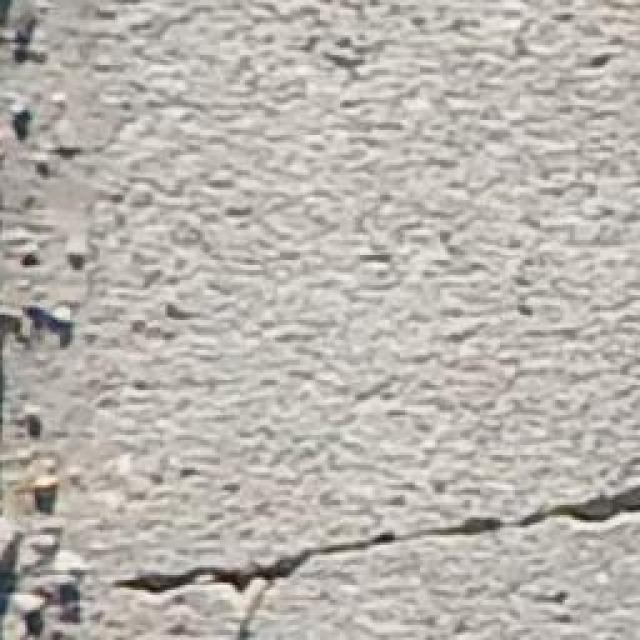concrete-crack: (115, 479, 638, 602)
